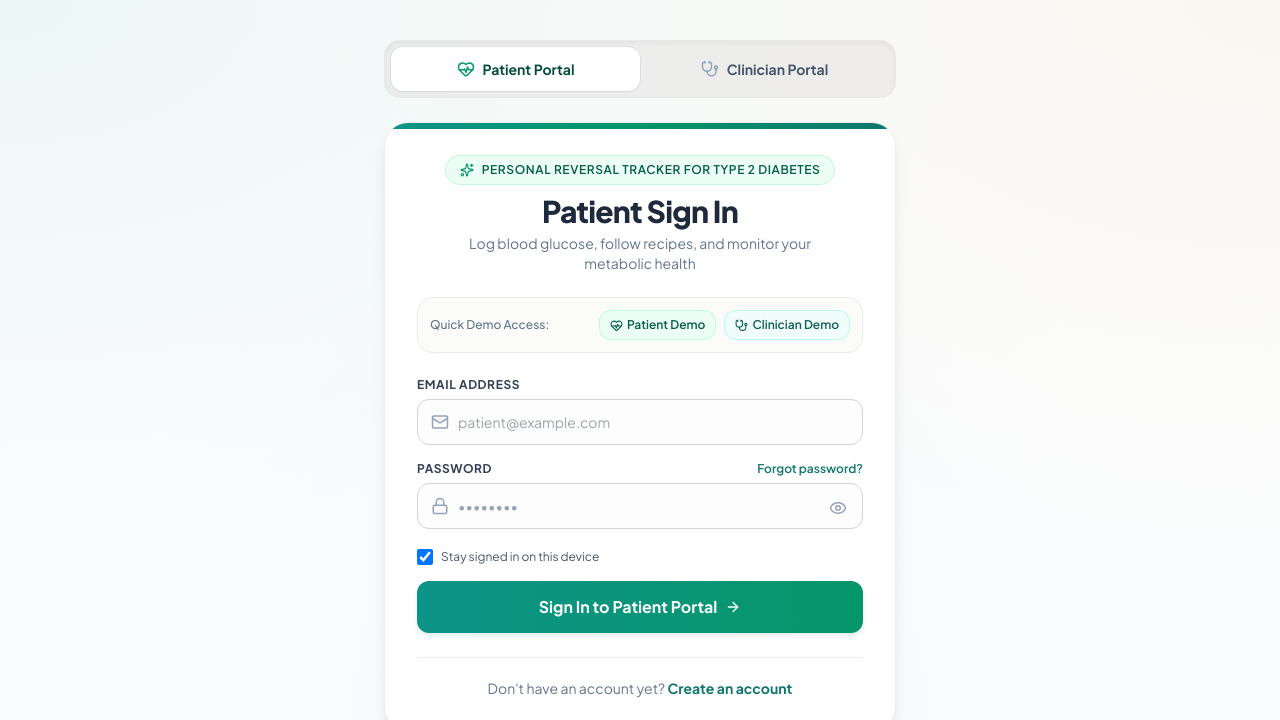
Scenario: LoginPage Component › populates Patient demo credentials with 1 click
This screenshot has width=1280, height=720.
Click the button "Patient Demo".
click(658, 325)  # box 599,310 -> 716,340
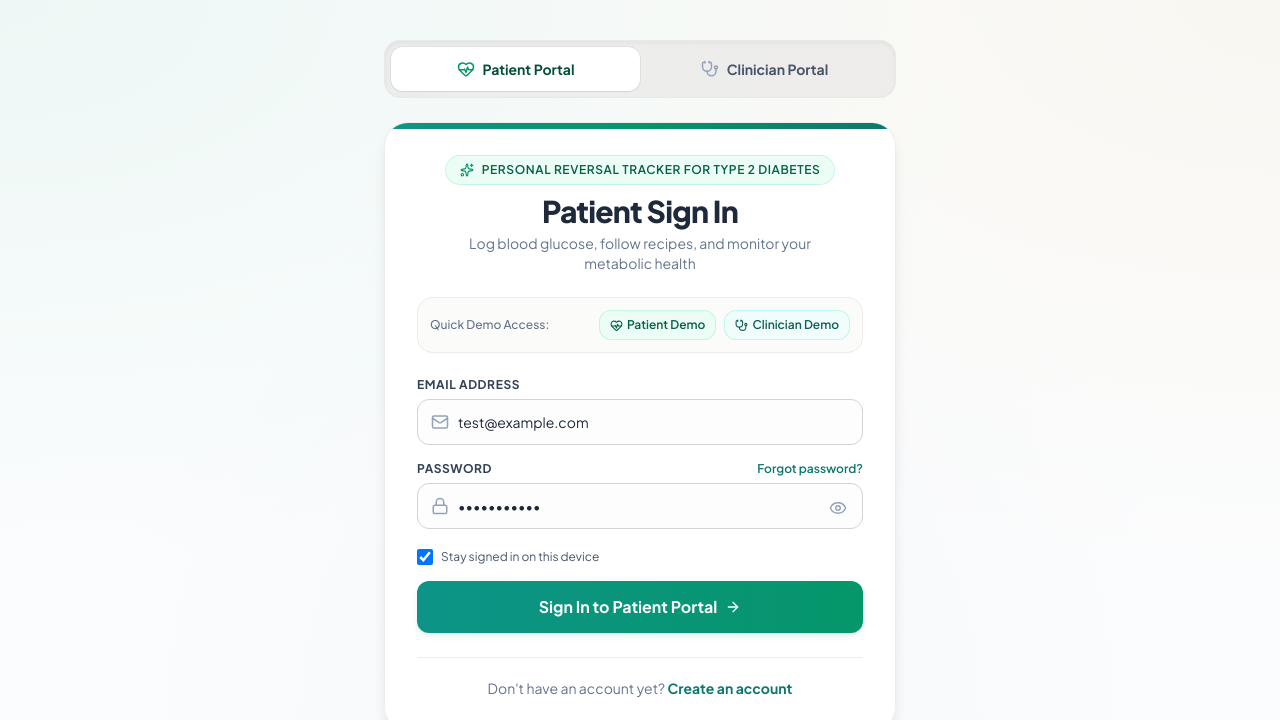
Expected: the heading "Patient Sign In" is shown, 542,192 -> 738,230
Expected: the field labelled "Email Address" holds "test@example.com", 417,399 -> 863,445
Expected: the password field with id "login-password" holds "password123", 417,483 -> 863,529
